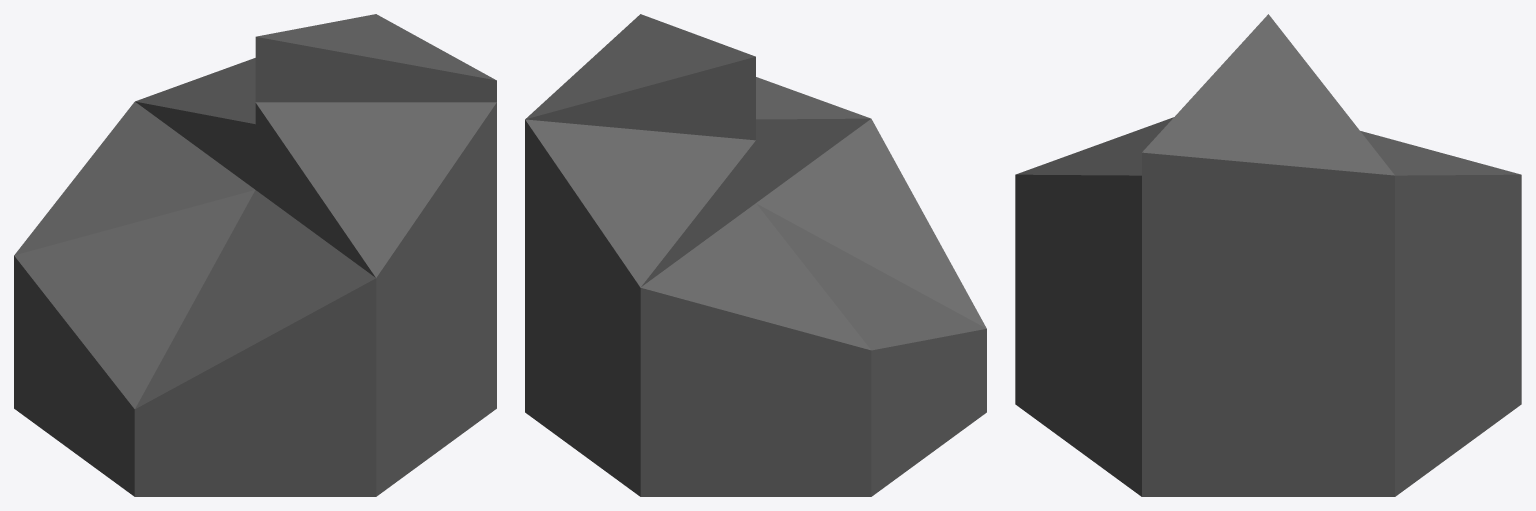
The model's file is peak.fbx.
The picture shows the model from 3 angles, left to right: view 1: azimuth 30°, elevation 25°; view 2: azimuth 150°, elevation 25°; view 3: azimuth 270°, elevation 25°; orthographic projection. The views are drawn at different scales.
Visible parts, largest first — view 1: Cylinder; view 2: Cylinder; view 3: Cylinder.
Boxes of the visible parts, left/top/right/bottom form: Cylinder: left=14, top=14, right=496, bottom=496; Cylinder: left=525, top=14, right=986, bottom=496; Cylinder: left=1015, top=14, right=1521, bottom=496.
Size of the model in its own units: 1.73 by 1.7 by 2.
